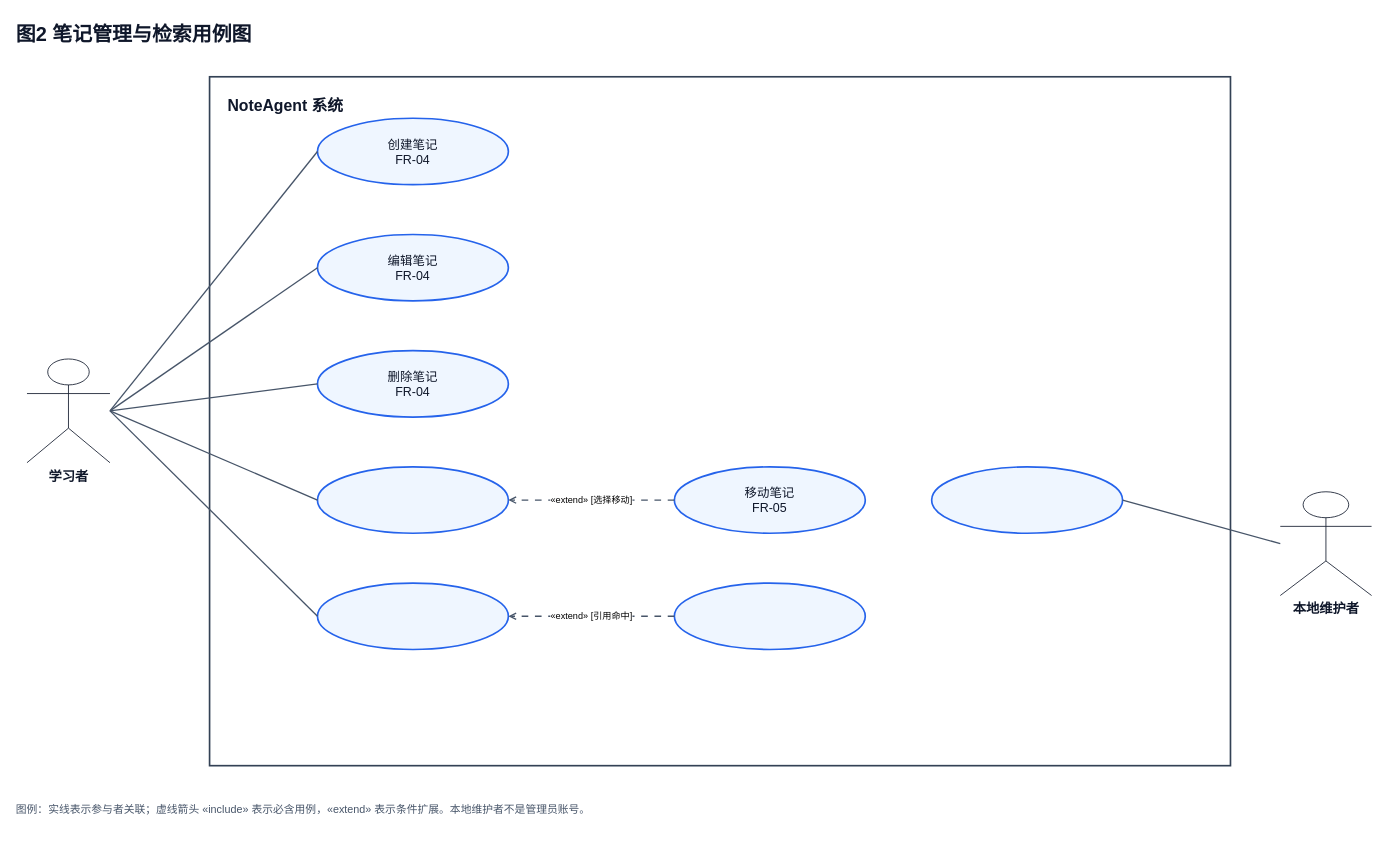
Image size: 1389x841. Some labels were removed from this diagram. Here are the shapes that lost their labels. From the top down, the box of each, then its label:
(316, 466, 509, 534): 整理笔记分类 FR-05
(930, 466, 1123, 534): 手动重新索引 FR-07
(316, 582, 509, 650): 检索已有笔记 FR-06
(673, 582, 866, 650): 查看引用来源 FR-06
